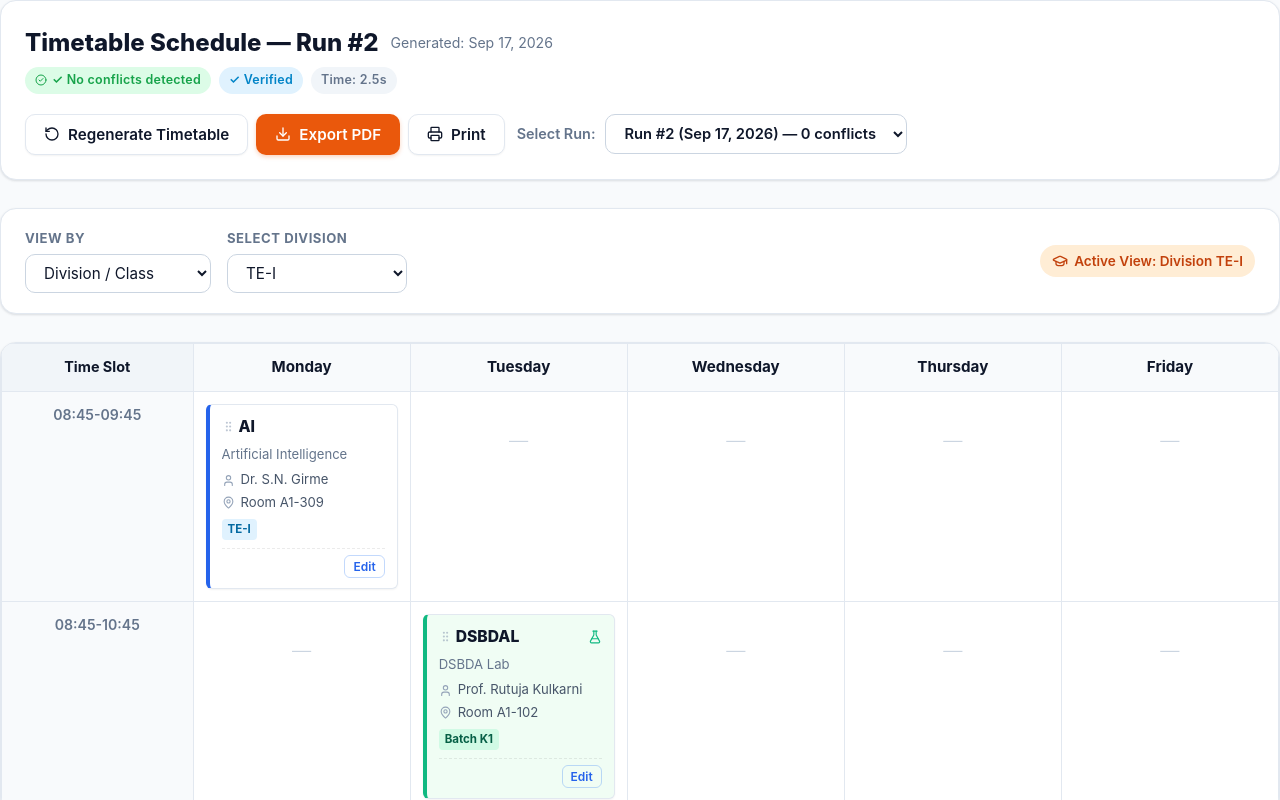
Test case: Redesigned Timetable Viewer Component › 14. Renders Edit button on timetable cards and opens Edit Modal
This screenshot has width=1280, height=800.
Click the button with aria-label "edit AI entry" at (365,567), box [344,555,385,578]
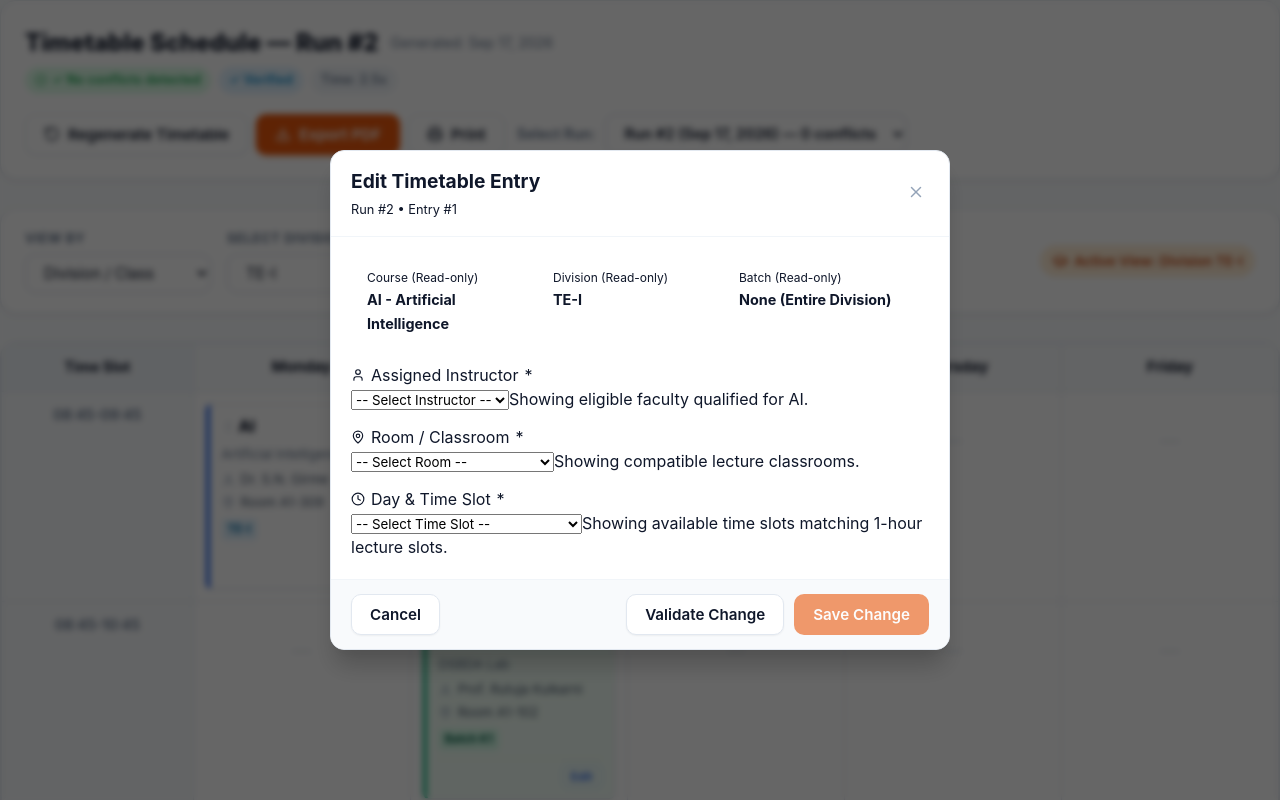
Now the heading "Edit Timetable Entry" is shown, box [351,167,540,196]
Now the text "Course (Read-only)" is shown, box [367,270,478,285]
Now the text "Division (Read-only)" is shown, box [553,270,668,285]
